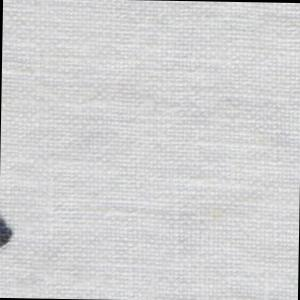Stain: (1, 207, 20, 256)
